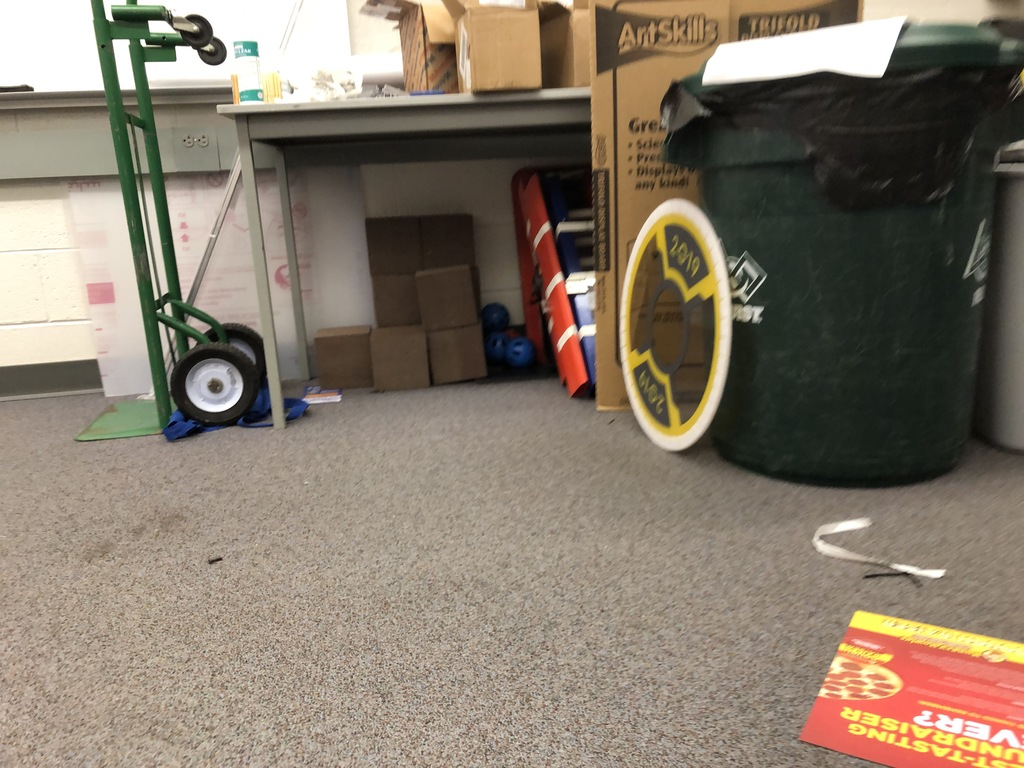hatch_panel: (601, 185, 740, 470)
